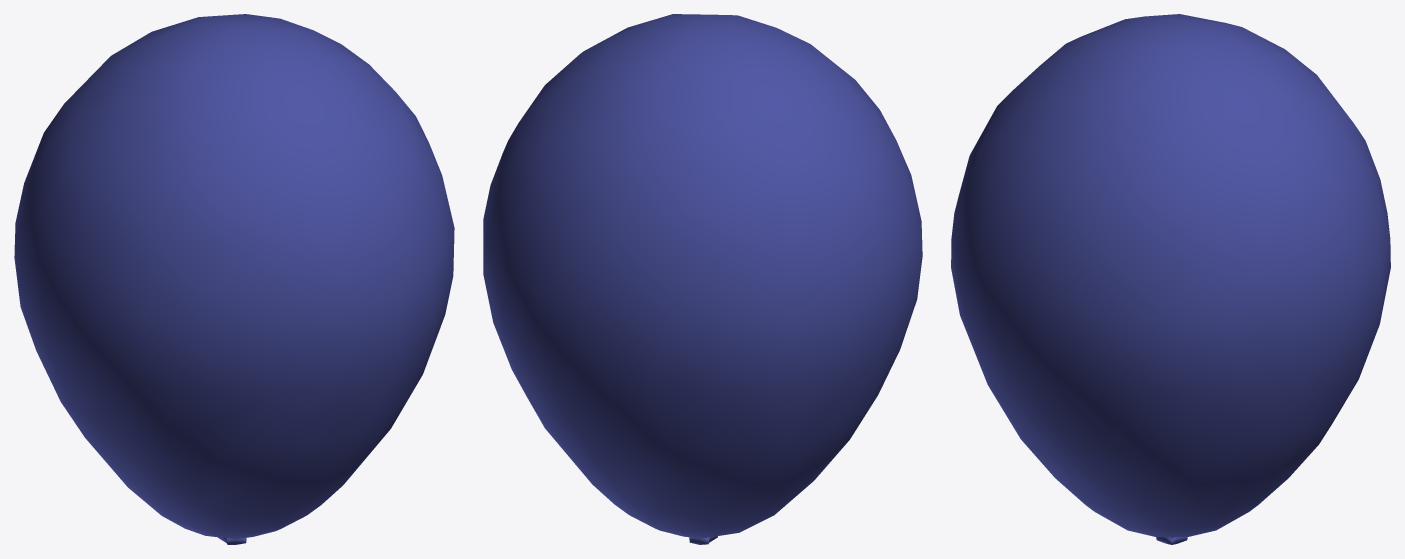
The model's file is Balloon.fbx.
3 renders of one model, left to right at view 1: azimuth 30°, elevation 25°; view 2: azimuth 150°, elevation 25°; view 3: azimuth 270°, elevation 25°, orthographic.
Visible parts, largest first — view 1: Balloon; view 2: Balloon; view 3: Balloon.
Boxes of the visible parts, bbox=[...] form: Balloon: bbox=[14, 14, 454, 544]; Balloon: bbox=[483, 14, 922, 544]; Balloon: bbox=[951, 14, 1390, 544].
Bounding box in the file's own units: 95.69 × 122 × 95.56.
1 material, 1 textured.
